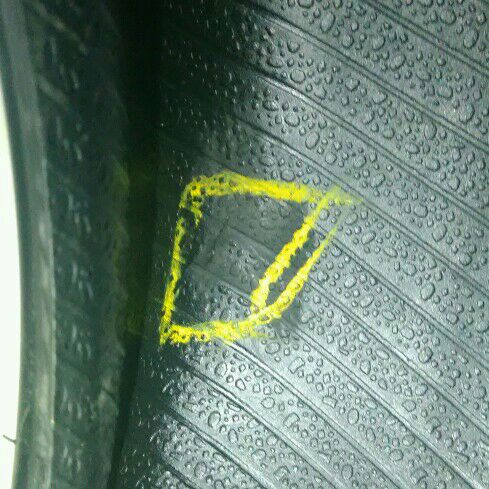CBU: (183, 192, 317, 342)
